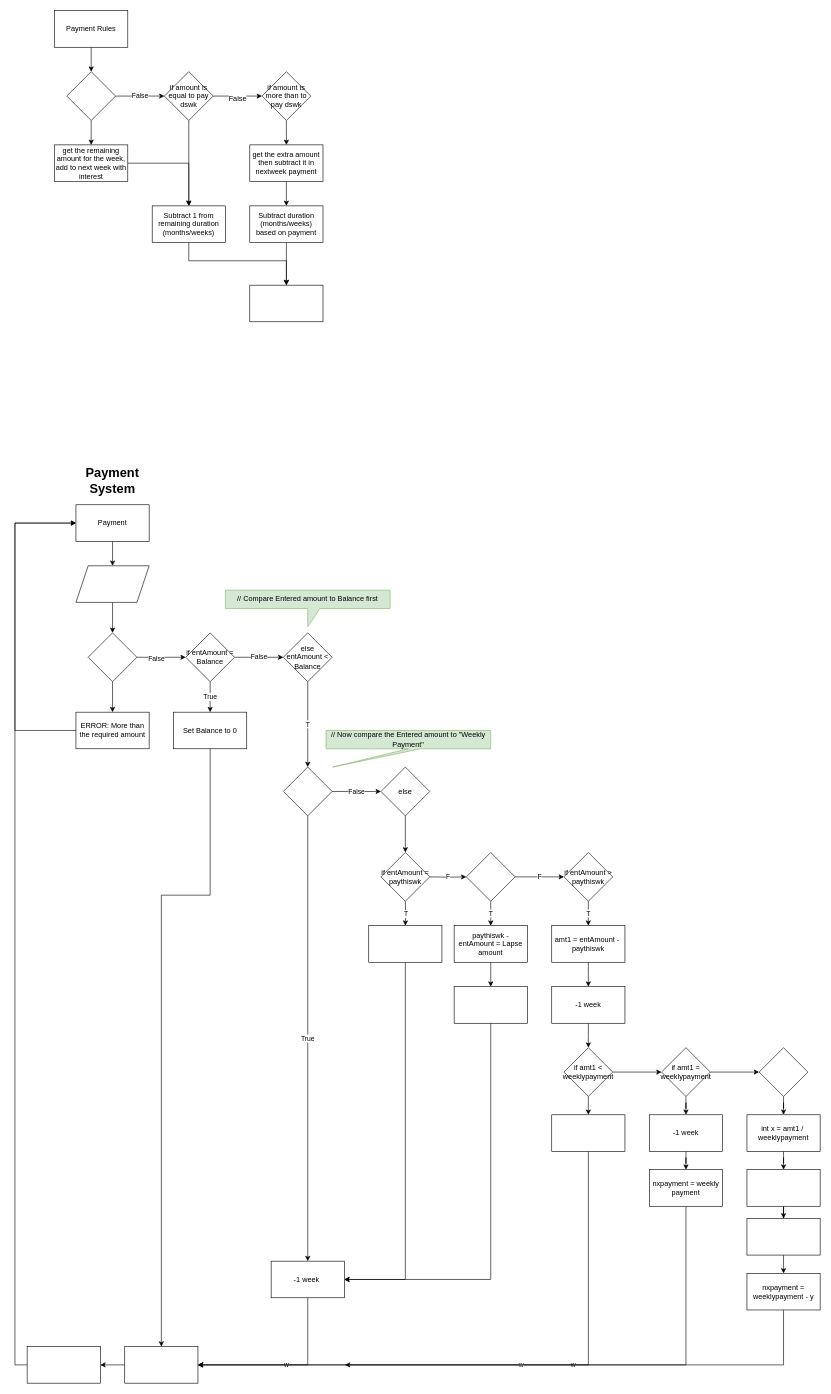
This 831x1394 diagram has some shape labels left out. Each missing label, with the centre of its shape:
"-x week" goes at (783,1187).
"Add date/time and Reference No. for that payment" goes at (63,1364).
"Adjust Overall Balance" goes at (286,303).
"Adjust overall Balance (Balance - entAmount)" goes at (161,1364).
"double y = amt1 % weeklypayment" goes at (783,1236).
"if amount is less than to pay dswk" goes at (91,95).
"if amt1 > weeklypayment" goes at (783,1071).
"if entAmount < paythiswk" goes at (490,876).
"if entAmount = Weekly Payment" goes at (307,791).
"if entAmount > Balance" goes at (112,657).
"Input payment amount" goes at (112,583).
"Lapse amount + (lapse amount * 1.5%) + weekly payment = to paynxweek" goes at (490,1004).
"nxpayment = weekly payment - amt1" goes at (588,1132).
"Reset paythswk to weekly payment" goes at (405,943).
